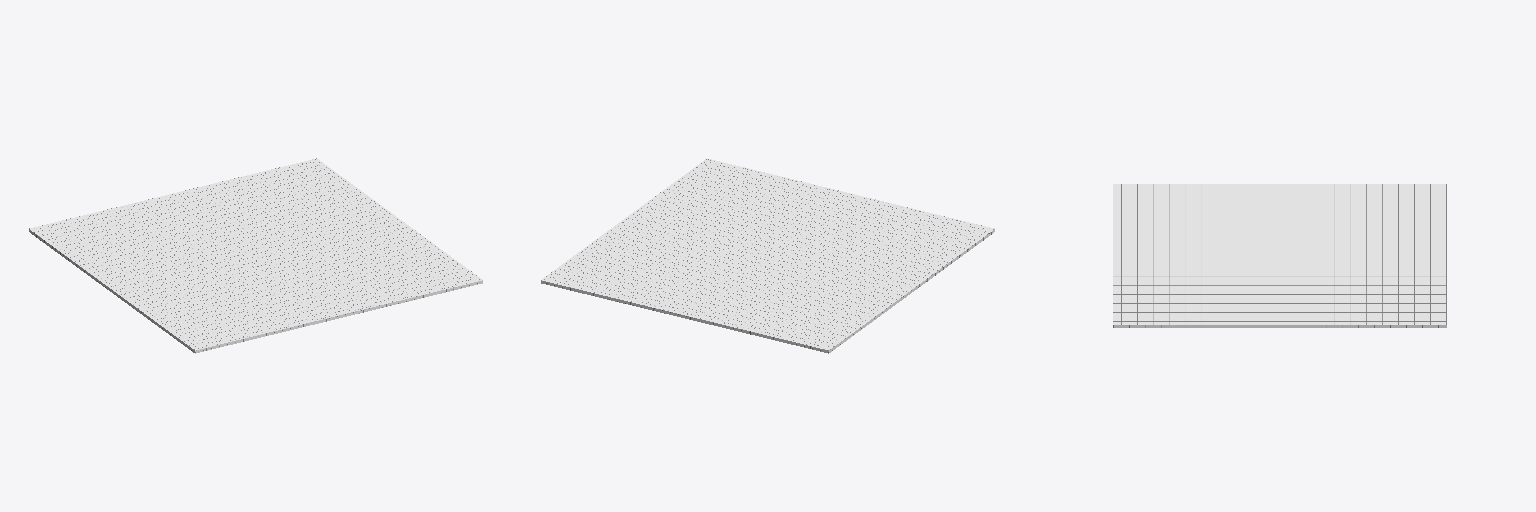
The picture shows the model from 3 angles: view 1: azimuth 30°, elevation 25°; view 2: azimuth 150°, elevation 25°; view 3: azimuth 270°, elevation 25°; orthographic projection.
Size of the model in its own units: 100 by 1 by 100.
1 materials, 1 textured.